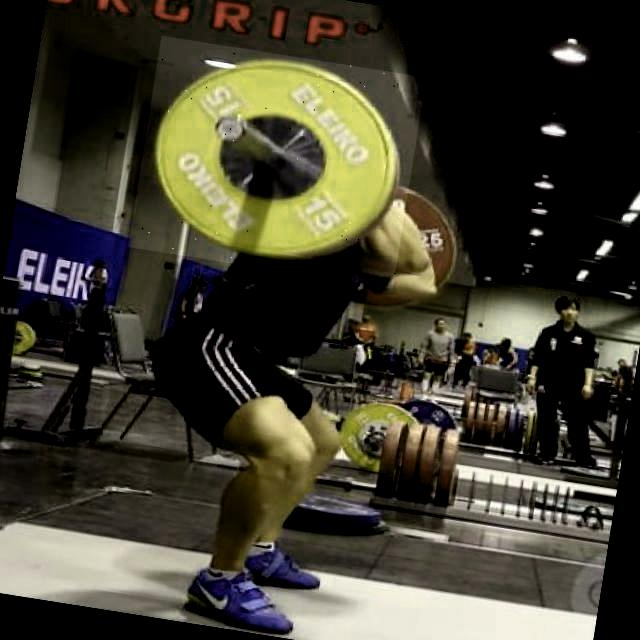barbell: (128, 37, 427, 290)
